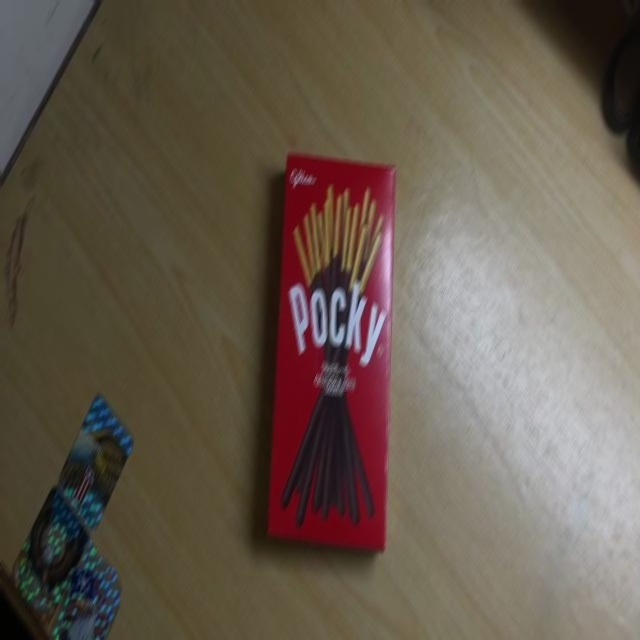Pocky: (264, 148, 396, 550)
